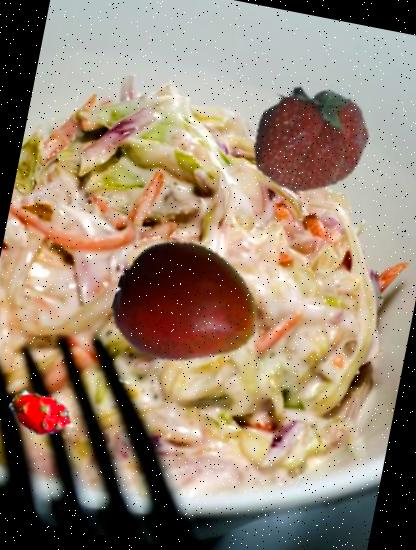Mango: (102, 219, 272, 389)
Pitahaya: (3, 377, 76, 450)
Strawberry: (238, 66, 380, 208)
